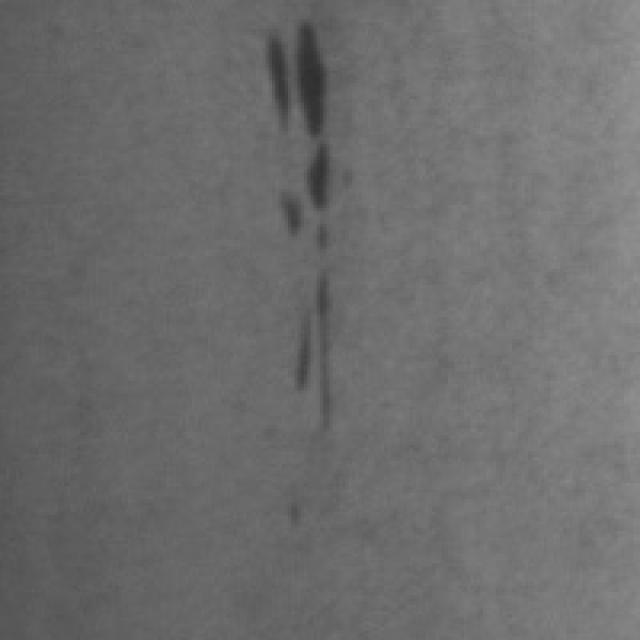inclusion: (285, 134, 352, 445), (262, 3, 342, 138)
